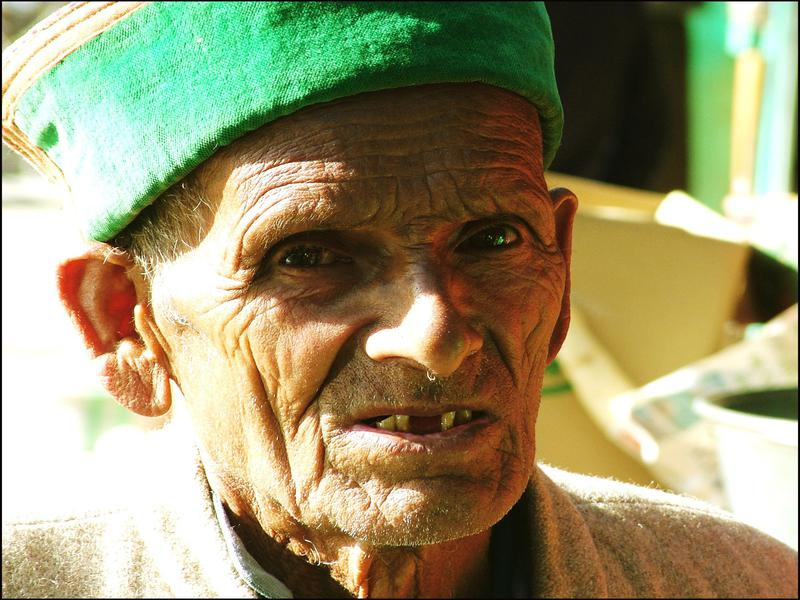person: (2, 1, 692, 599)
